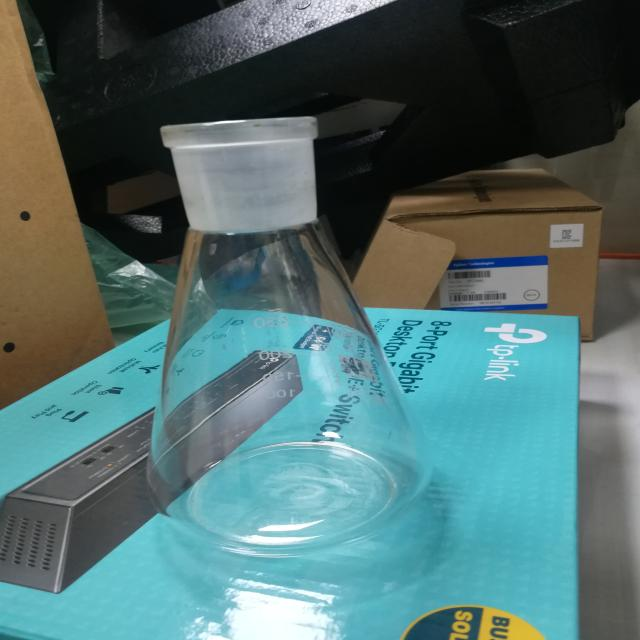Conical_Flask: (106, 73, 485, 577)
